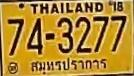2: (75, 16, 90, 52)
3: (57, 18, 72, 52)
4: (26, 17, 42, 54)
7: (7, 18, 23, 55), (110, 15, 126, 51), (92, 16, 108, 51)
SPK: (29, 57, 108, 73)
